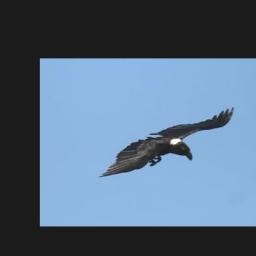Crow: (97, 105, 235, 177)
